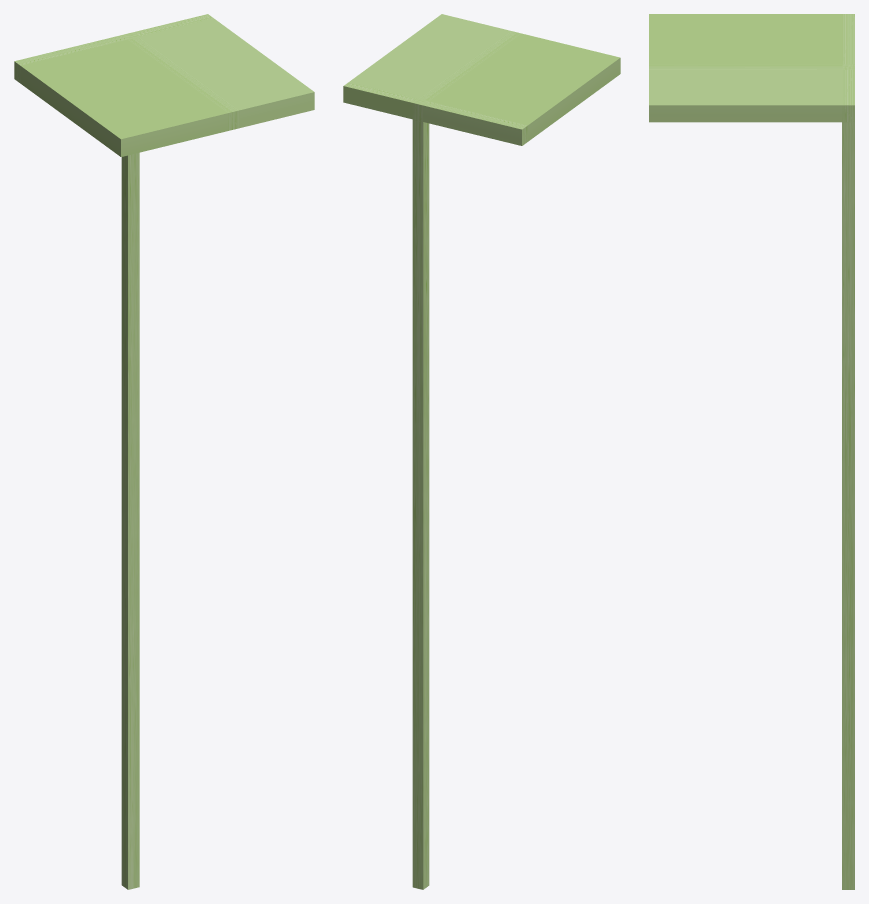
File: light.obj
3 views of the same model, side by side, from view 1: azimuth 30°, elevation 25°; view 2: azimuth 150°, elevation 25°; view 3: azimuth 270°, elevation 25° (orthographic). The views are drawn at different scales.
Parts seen in each view (by area): view 1: Cube; view 2: Cube; view 3: Cube.
Boxes of the visible parts, bbox=[...] form: Cube: bbox=[14, 14, 314, 889]; Cube: bbox=[343, 14, 620, 889]; Cube: bbox=[649, 14, 854, 889].
Size of the model in its own units: 33.87 by 142 by 32.31.
Materials: 1 (1 with a texture image).
